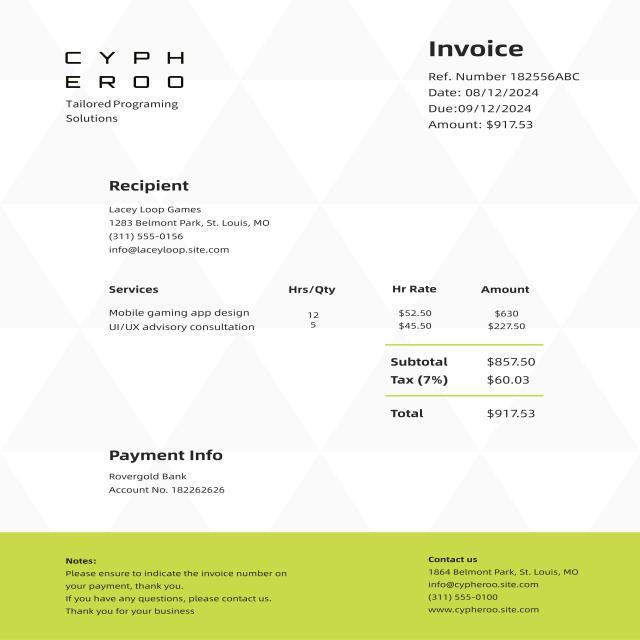customer_address: (105, 215, 279, 230)
customer_name: (106, 201, 207, 216)
due_date: (457, 102, 536, 117)
invoice_date: (463, 86, 544, 100)
invoice_number: (507, 67, 589, 85)
invoice_subtotal: (485, 353, 538, 368)
invoice_total: (481, 407, 540, 423)
item_description: (103, 303, 261, 337)
item_quantity: (299, 304, 325, 335)
item_total_price: (482, 303, 534, 335)
item_unit_price: (394, 300, 439, 337)
supplier_address: (423, 564, 584, 579)
supplier_name: (53, 44, 192, 129)
tax_amount: (482, 372, 537, 388)
tax_rate: (421, 370, 444, 392)
